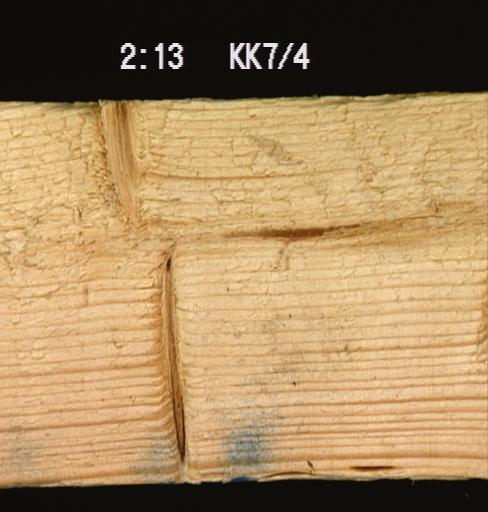split: (386, 196, 484, 225)
